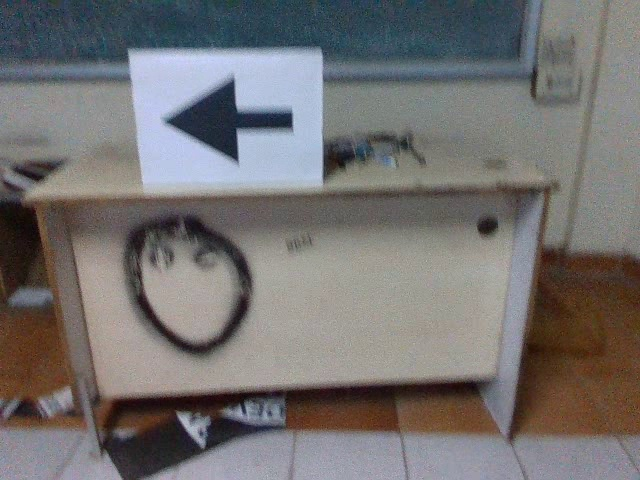Left: (153, 67, 296, 169)
